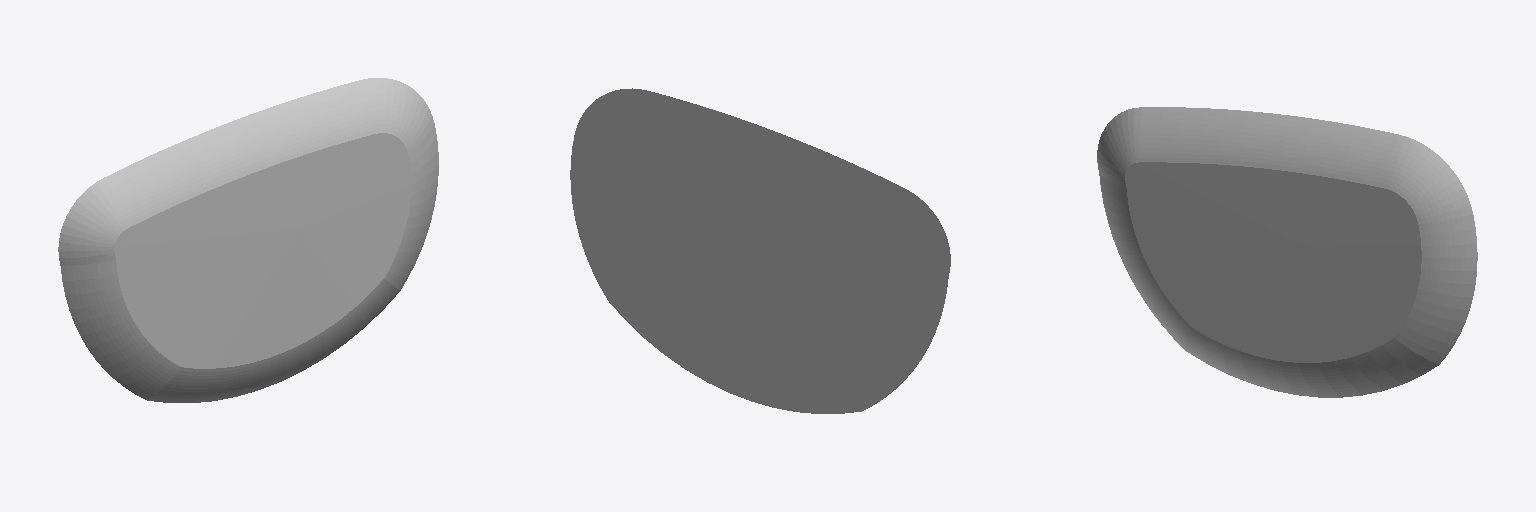
The model's file is original-3.obj.
3 views of the same model, side by side, from view 1: azimuth 30°, elevation 25°; view 2: azimuth 150°, elevation 25°; view 3: azimuth 330°, elevation 25° (orthographic).
Visible parts, largest first — view 1: lens2/lens12/mesh3/mesh3-geometry#mesh3-geometry; view 2: lens2/lens12/mesh3/mesh3-geometry#mesh3-geometry; view 3: lens2/lens12/mesh3/mesh3-geometry#mesh3-geometry.
Part boxes in pixels (left/top/right/bottom): lens2/lens12/mesh3/mesh3-geometry#mesh3-geometry: left=58, top=78, right=438, bottom=402; lens2/lens12/mesh3/mesh3-geometry#mesh3-geometry: left=570, top=88, right=950, bottom=413; lens2/lens12/mesh3/mesh3-geometry#mesh3-geometry: left=1097, top=107, right=1477, bottom=397.
Size of the model in its own units: 0.4698 by 0.338 by 0.0315.